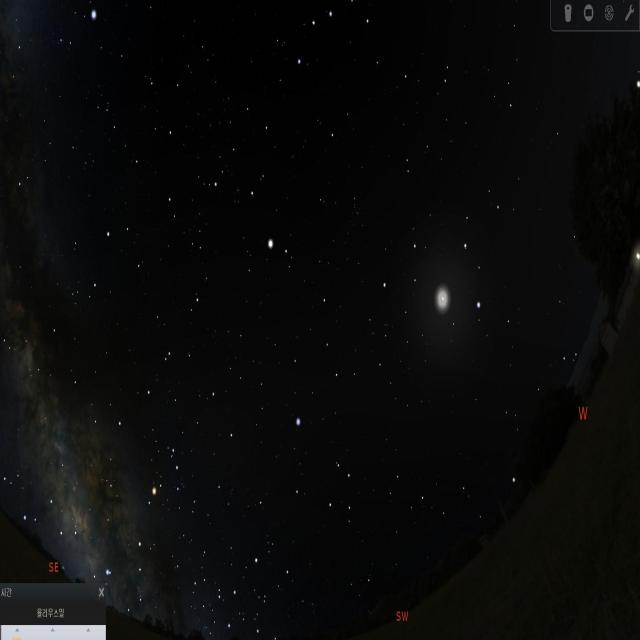bootes: (224, 95, 286, 263)
leo: (374, 171, 510, 331)
lyra: (52, 3, 102, 60)
moon: (419, 255, 465, 338)
scorpius: (103, 436, 187, 616)
